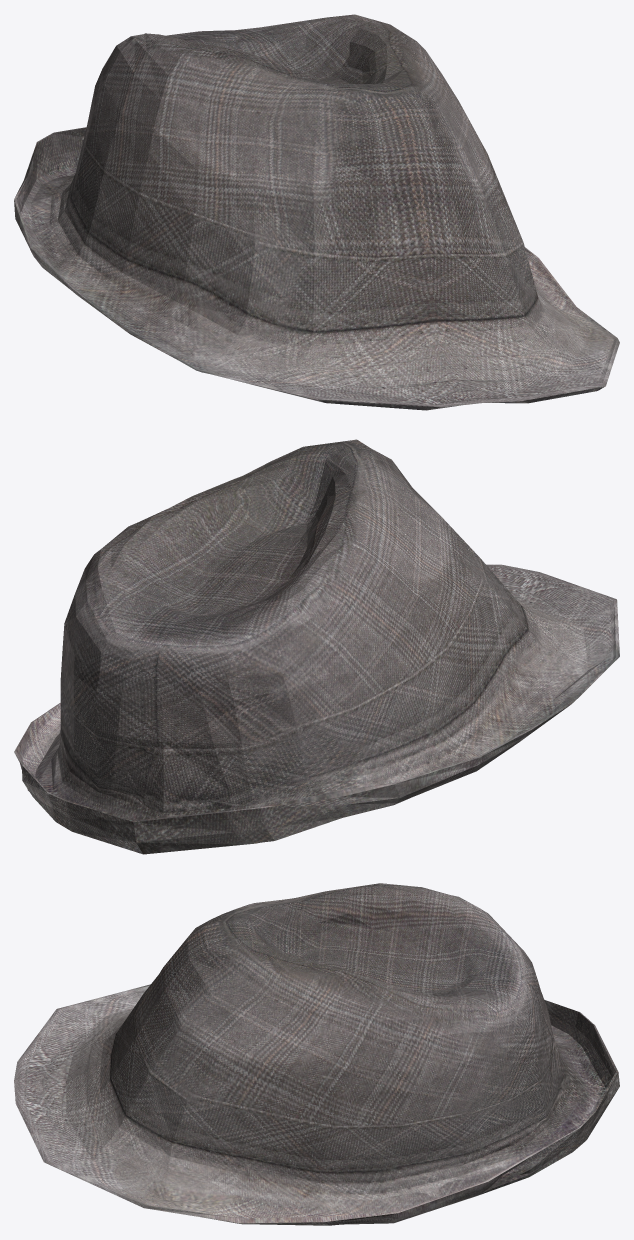
Rendered from FedoraMaterial.obj.
3 renders of one model, top to bottom at view 1: azimuth 30°, elevation 25°; view 2: azimuth 150°, elevation 25°; view 3: azimuth 270°, elevation 25°, orthographic. The views are drawn at different scales.
Size of the model in its own units: 0.207 by 0.1188 by 0.2845.
1 material, 1 textured.
